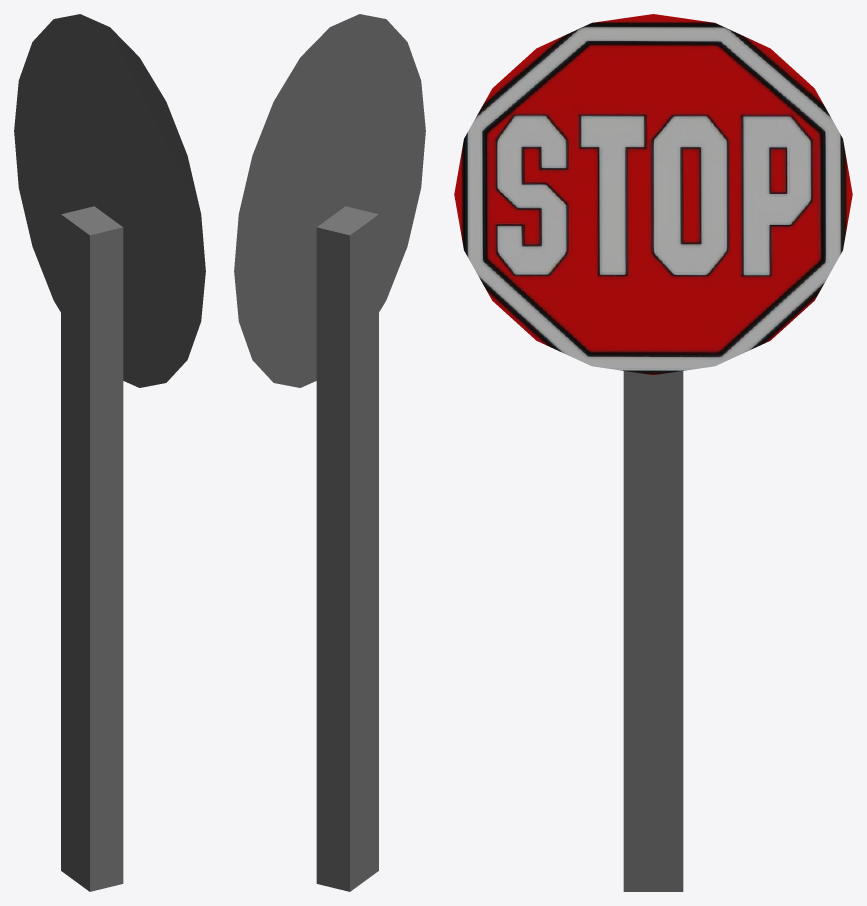
Rendered from StopSign.obj.
3 renders of one model, left to right at view 1: azimuth 30°, elevation 25°; view 2: azimuth 150°, elevation 25°; view 3: azimuth 270°, elevation 25°, orthographic. The views are drawn at different scales.
Parts seen in each view (by area): view 1: StopSign:pCube2, LetreroCalles3:pCube1; view 2: StopSign:pCube2, LetreroCalles3:pCube1; view 3: StopSign:pCube2, LetreroCalles3:pCube1.
Boxes of the visible parts, x1,y1,x2,y2 form: StopSign:pCube2: (14,14,205,387); LetreroCalles3:pCube1: (61,206,123,891); StopSign:pCube2: (234,14,425,387); LetreroCalles3:pCube1: (316,206,378,891); StopSign:pCube2: (454,14,852,374); LetreroCalles3:pCube1: (623,371,683,891).
Bounding box in the file's own units: 0.1245 × 2.92 × 1.2.
3 materials, 2 textured.
